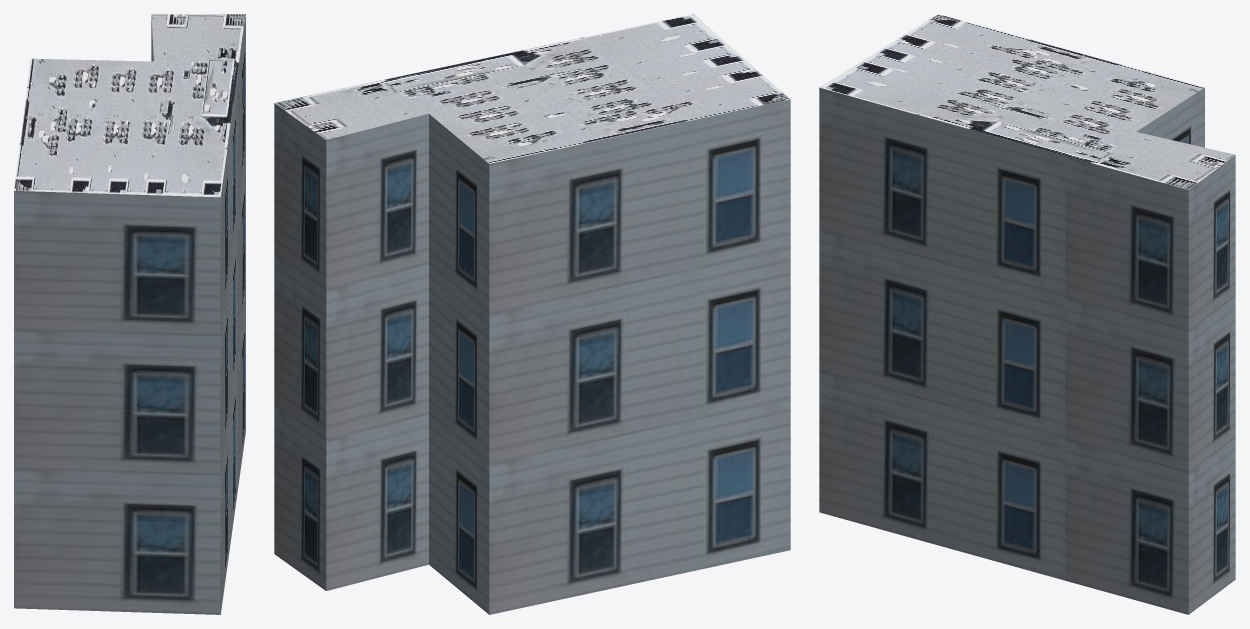
The model's file is ResTex__3846.fbx.
3 renders of one model, left to right at view 1: azimuth 30°, elevation 25°; view 2: azimuth 150°, elevation 25°; view 3: azimuth 270°, elevation 25°, orthographic. The views are drawn at different scales.
Visible parts, largest first — view 1: CityEngineMaterial_18_m, CityEngineMaterial_4_m; view 2: CityEngineMaterial_18_m, CityEngineMaterial_4_m; view 3: CityEngineMaterial_18_m, CityEngineMaterial_4_m.
Boxes of the visible parts, left/top/right/bottom form: CityEngineMaterial_18_m: left=14, top=15, right=245, bottom=614; CityEngineMaterial_4_m: left=14, top=14, right=245, bottom=197; CityEngineMaterial_18_m: left=274, top=99, right=790, bottom=614; CityEngineMaterial_4_m: left=274, top=14, right=790, bottom=163; CityEngineMaterial_18_m: left=819, top=87, right=1235, bottom=614; CityEngineMaterial_4_m: left=819, top=14, right=1235, bottom=189.
Size of the model in its own units: 8.01 by 9 by 8.
2 materials, 2 textured.
